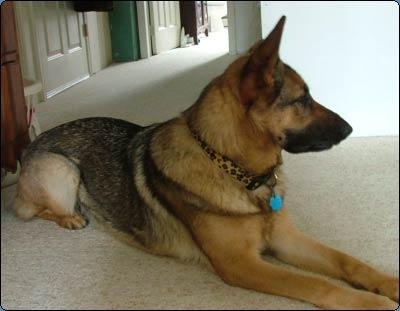German_shepherd: (13, 15, 399, 310)
